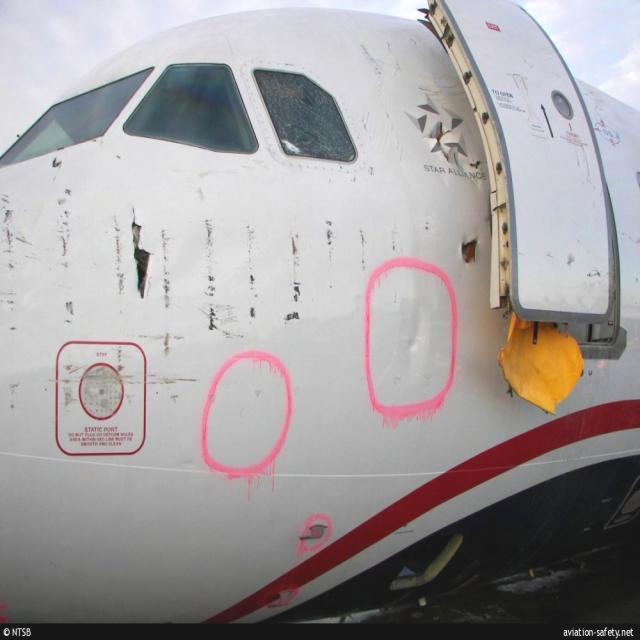crack: (129, 200, 156, 307), (457, 229, 483, 269)
dent: (394, 305, 432, 362)
